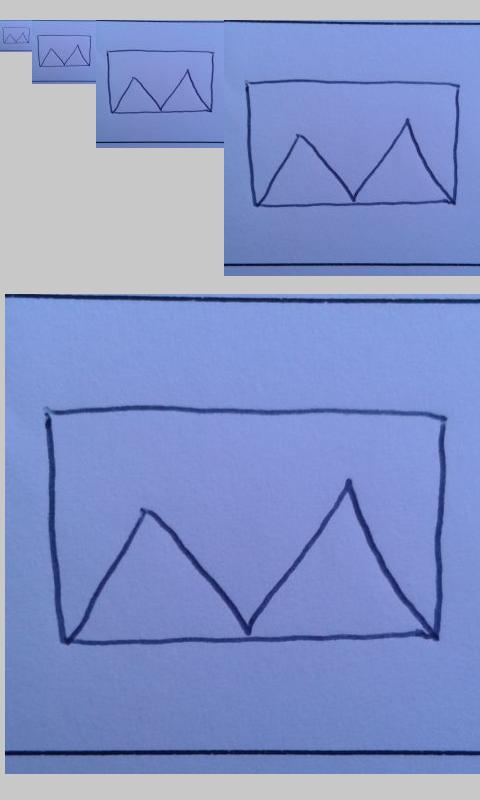image_view: (44, 401, 448, 652), (244, 76, 461, 213), (106, 50, 214, 114), (37, 34, 91, 68), (2, 26, 31, 45)
